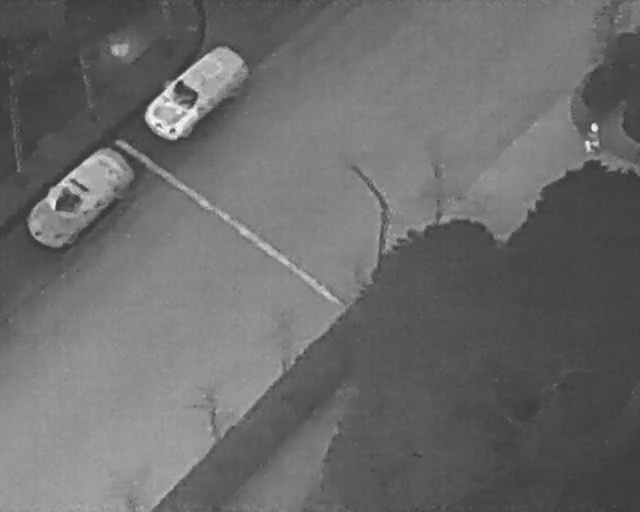Car: (18, 137, 140, 255), (136, 33, 255, 148)
